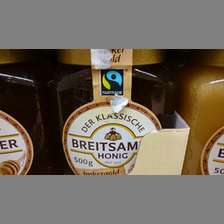honey: (53, 50, 178, 175)
